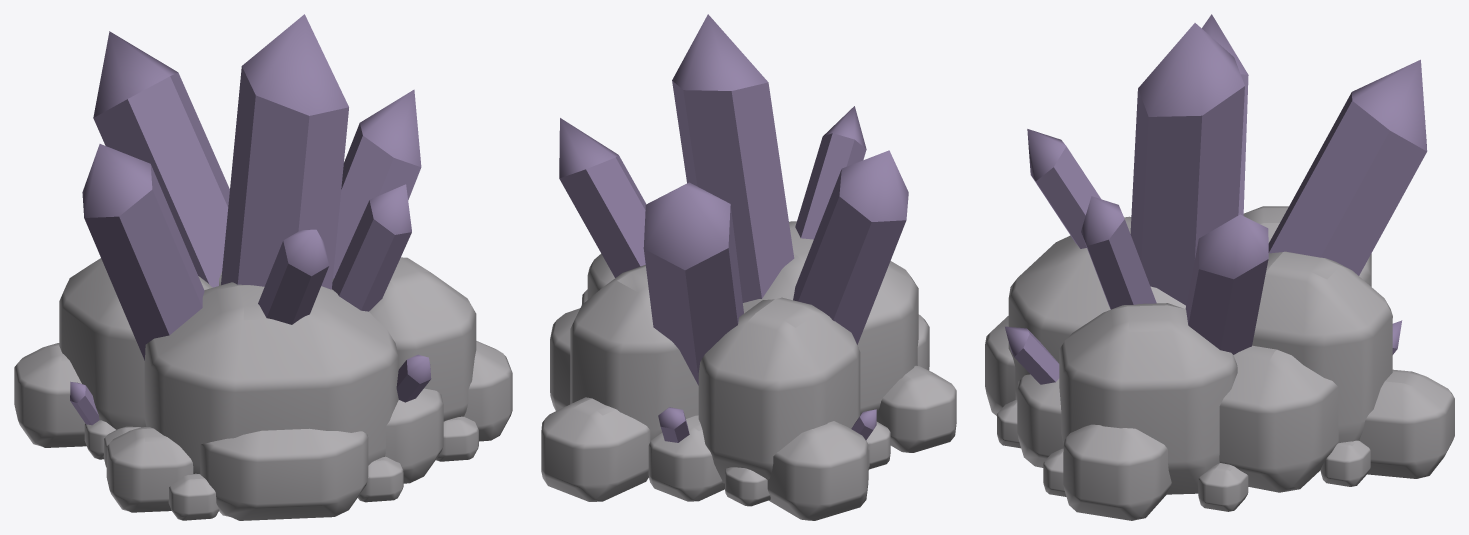
File: Paarse kristallen.fbx
3 renders of one model, left to right at view 1: azimuth 30°, elevation 25°; view 2: azimuth 150°, elevation 25°; view 3: azimuth 270°, elevation 25°, orthographic. The views are drawn at different scales.
Visible parts, largest first — view 1: polySurface92; view 2: polySurface92; view 3: polySurface92.
Part boxes in pixels (<box>): polySurface92: <box>14,14,512,520</box>; polySurface92: <box>541,14,956,520</box>; polySurface92: <box>985,14,1454,520</box>.
Bounding box in the file's own units: 1.3 × 1.37 × 1.34.
